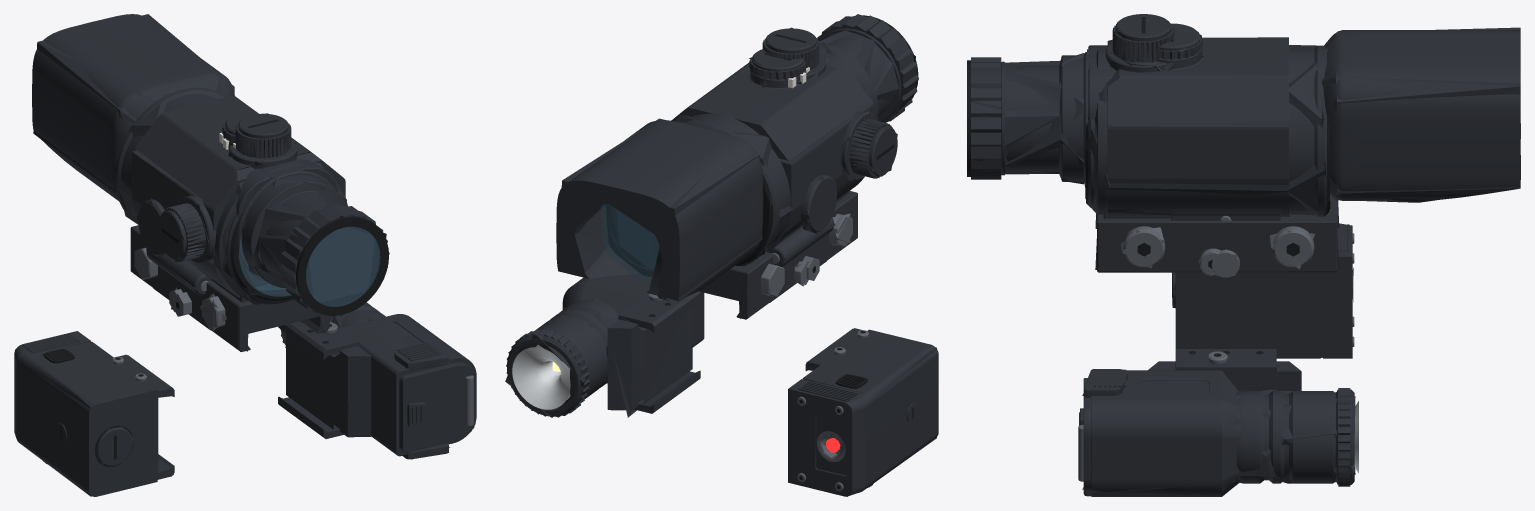
File: shotgun.glb
3 renders of one model, left to right at view 1: azimuth 30°, elevation 25°; view 2: azimuth 150°, elevation 25°; view 3: azimuth 270°, elevation 25°, orthographic. The views are drawn at different scales.
Parts seen in each view (by area): view 1: optic_scopeVar, optic_scope2x, light_weaponTorch, laser_redLaser, optic_scopeVar_Figure, laser_redLaser_Figure, optic_scope2x_Figure, light_weaponTorch_Figure; view 2: optic_scopeVar, optic_scope2x, laser_redLaser, light_weaponTorch, optic_scopeVar_Figure, light_weaponTorch_Figure, optic_scope2x_Figure, laser_redLaser_Figure; view 3: optic_scopeVar, optic_scope2x, light_weaponTorch, optic_scopeVar_Figure, laser_redLaser, optic_scope2x_Figure, laser_redLaser_Figure, light_weaponTorch_Figure.
Boxes of the visible parts, x1,y1,x2,y2 form: optic_scopeVar: [32, 14, 389, 351]; optic_scope2x: [114, 87, 347, 327]; light_weaponTorch: [278, 302, 476, 459]; laser_redLaser: [14, 331, 174, 496]; optic_scopeVar_Figure: [33, 14, 386, 351]; laser_redLaser_Figure: [15, 334, 174, 496]; optic_scope2x_Figure: [115, 90, 346, 330]; light_weaponTorch_Figure: [286, 309, 476, 454]; optic_scopeVar: [556, 14, 918, 319]; optic_scope2x: [671, 28, 897, 284]; laser_redLaser: [788, 328, 938, 496]; light_weaponTorch: [506, 276, 704, 417]; optic_scopeVar_Figure: [558, 30, 915, 318]; light_weaponTorch_Figure: [505, 274, 692, 417]; optic_scope2x_Figure: [674, 27, 897, 302]; laser_redLaser_Figure: [796, 328, 936, 495]; optic_scopeVar: [967, 23, 1520, 272]; optic_scope2x: [1086, 14, 1329, 277]; light_weaponTorch: [1078, 349, 1354, 496]; optic_scopeVar_Figure: [971, 27, 1520, 269]; laser_redLaser: [1172, 223, 1354, 358]; optic_scope2x_Figure: [1085, 26, 1330, 275]; laser_redLaser_Figure: [1172, 223, 1353, 357]; light_weaponTorch_Figure: [1082, 365, 1358, 496].
Bounding box in the file's own units: 0.1063 × 0.1026 × 0.1314.
